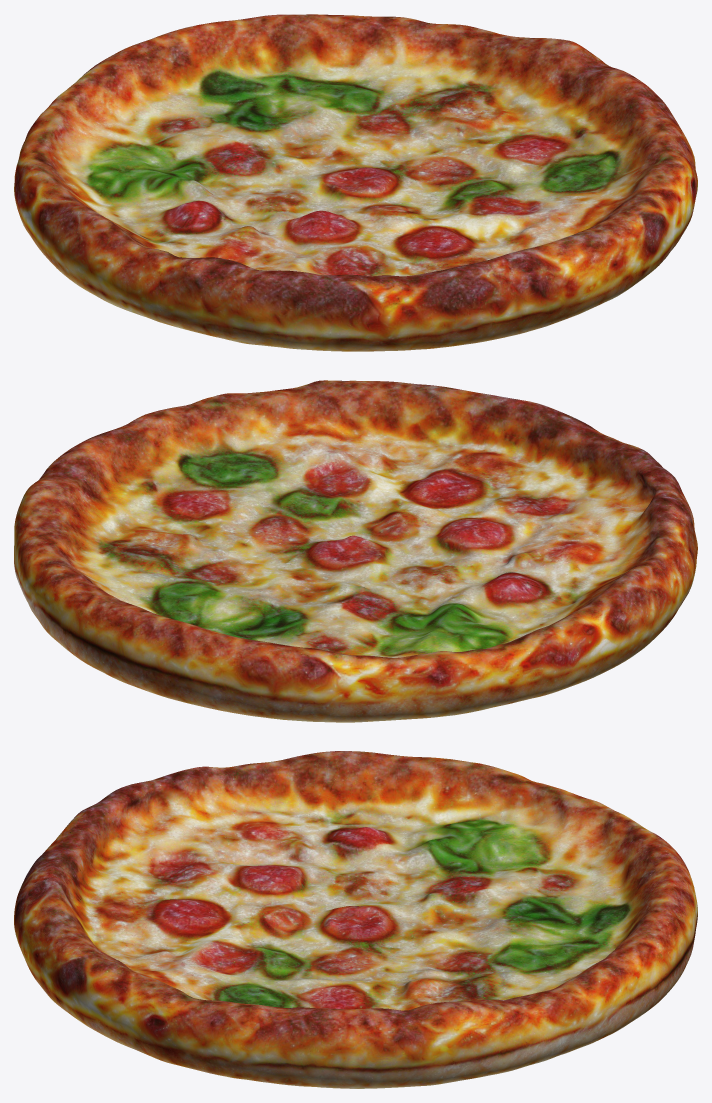
Rendered from pizza.glb.
3 renders of one model, top to bottom at view 1: azimuth 30°, elevation 25°; view 2: azimuth 150°, elevation 25°; view 3: azimuth 270°, elevation 25°, orthographic.
Parts seen in each view (by area): view 1: model; view 2: model; view 3: model.
Boxes of the visible parts, x1,y1,x2,y2 form: model: (14,14,697,351); model: (14,380,697,722); model: (14,751,697,1088).
Bounding box in the file's own units: 1.85 × 0.2998 × 1.86.
Materials: 1 (1 with a texture image).
